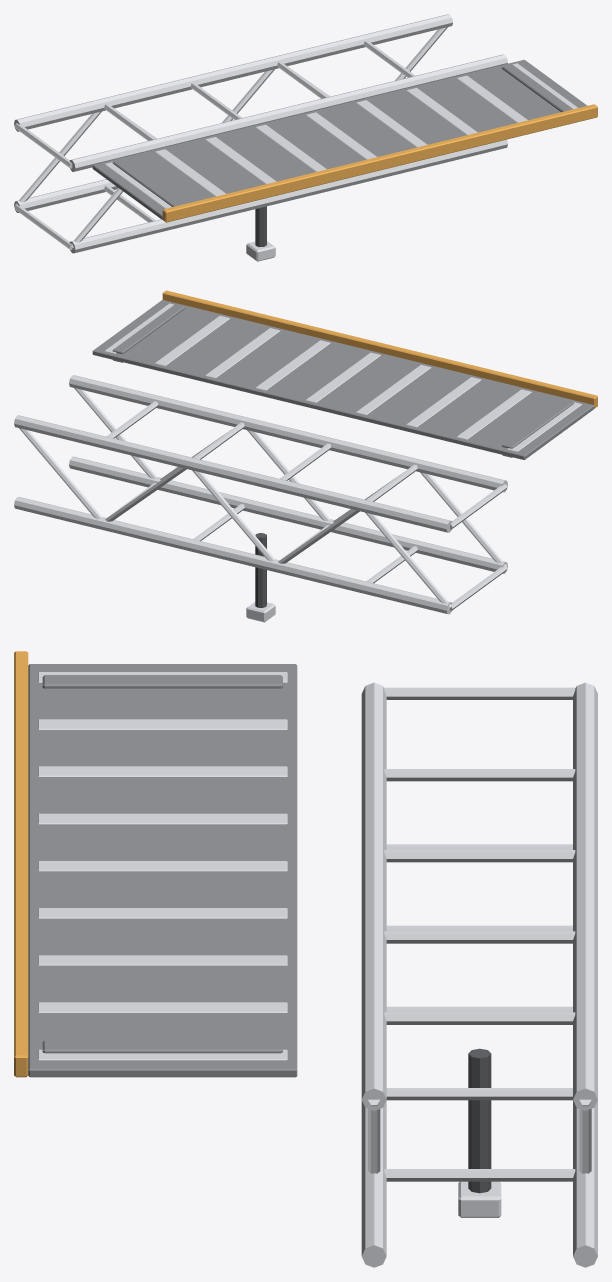
Rendered from 35499_Lighting_Grid_Bay_with_a_Walkway__TV_Studio_and_Broadcast_Gallery_.glb.
3 renders of one model, top to bottom at view 1: azimuth 30°, elevation 25°; view 2: azimuth 150°, elevation 25°; view 3: azimuth 270°, elevation 25°, orthographic. The views are drawn at different scales.
Parts seen in each view (by area): view 1: lighting-grid-bay; view 2: lighting-grid-bay; view 3: lighting-grid-bay.
Part boxes in pixels (x1=…): lighting-grid-bay: x1=14, y1=14, x2=597, y2=261; lighting-grid-bay: x1=14, y1=290, x2=597, y2=622; lighting-grid-bay: x1=14, y1=651, x2=597, y2=1267.
Size of the model in its own units: 2.02 by 0.8201 by 1.22.
